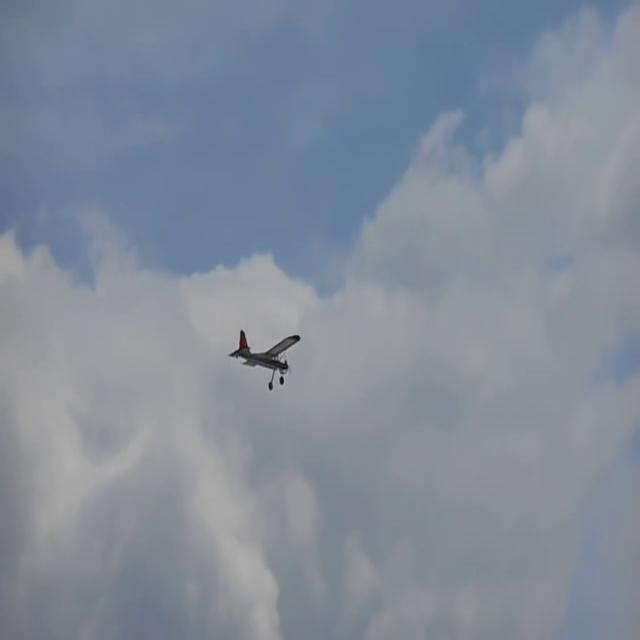iha: (259, 331, 261, 387)
